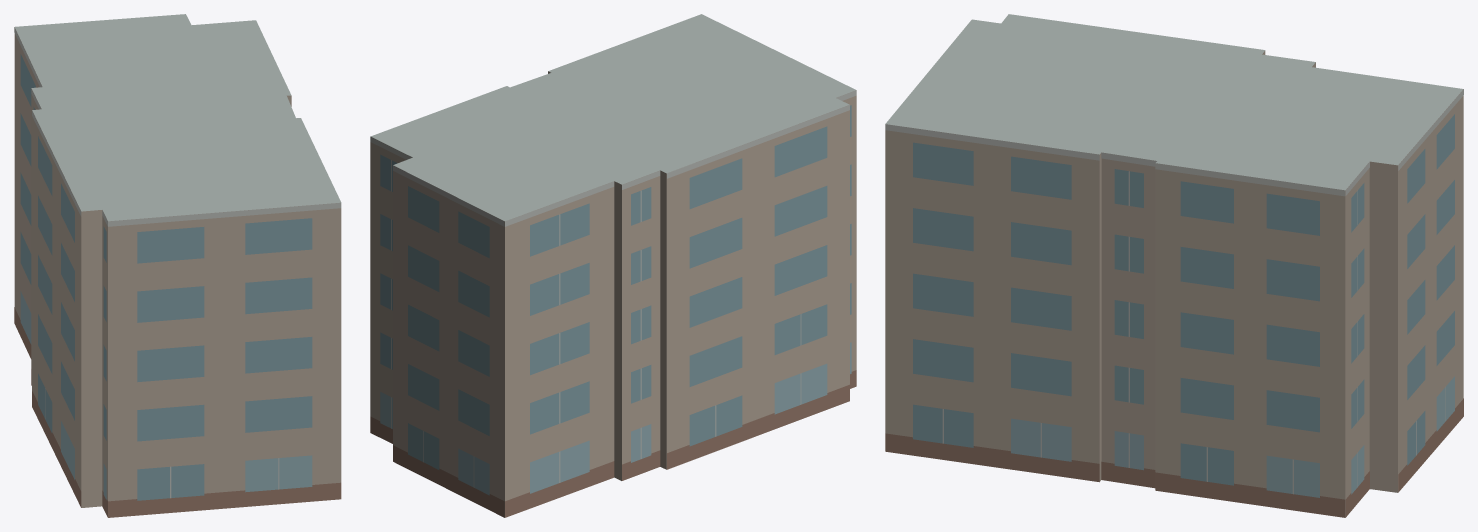
Rendered from survey-upis-32657823.glb.
The picture shows the model from 3 angles, left to right: view 1: azimuth 30°, elevation 25°; view 2: azimuth 150°, elevation 25°; view 3: azimuth 270°, elevation 25°; orthographic projection. The views are drawn at different scales.
Visible parts, largest first — view 1: survey-upis-32657823.tmp; view 2: survey-upis-32657823.tmp; view 3: survey-upis-32657823.tmp.
Part boxes in pixels (x1,y1,x2,y2): survey-upis-32657823.tmp: (14,14,341,517); survey-upis-32657823.tmp: (370,14,856,517); survey-upis-32657823.tmp: (885,14,1463,517).
Bounding box in the file's own units: 15.13 × 13.1 × 20.98.
